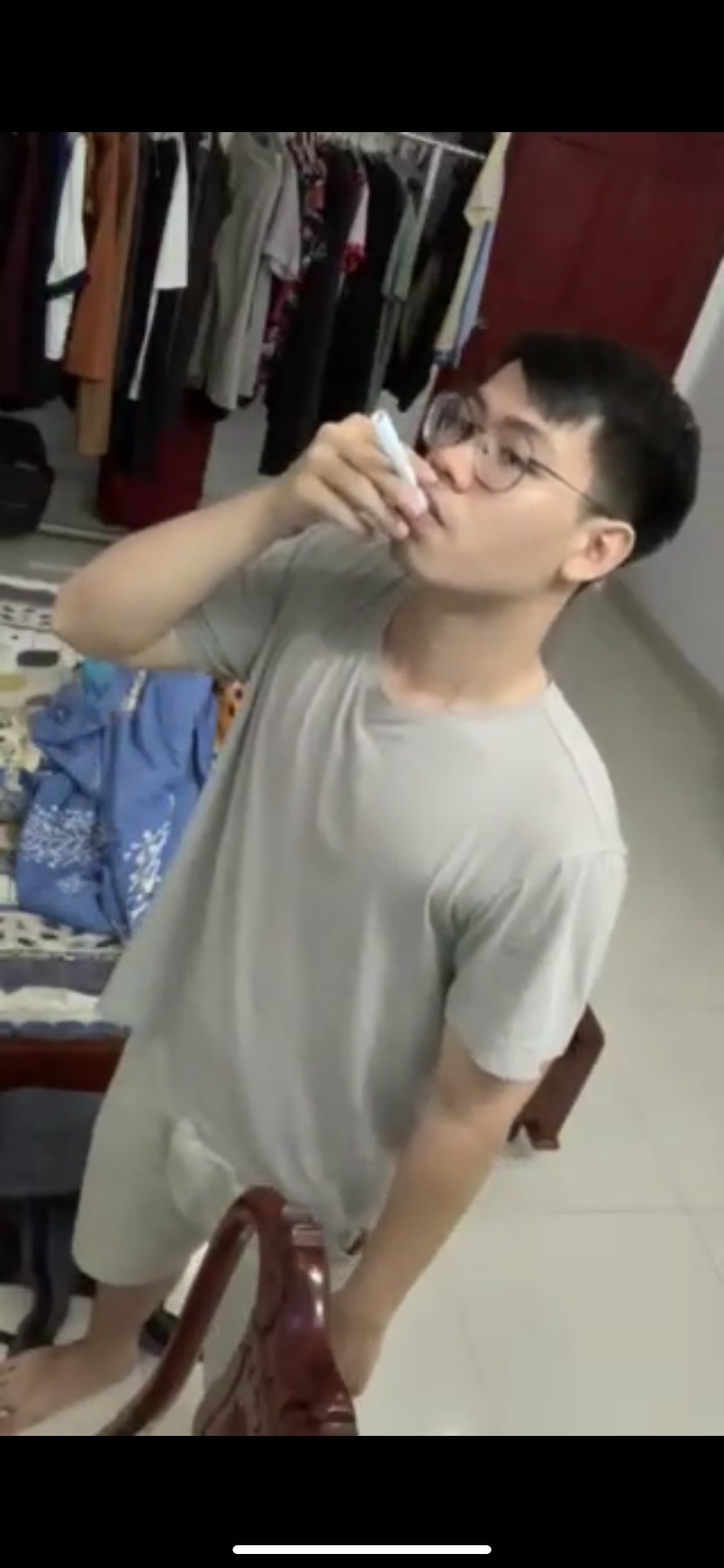cigarette: (365, 393, 438, 508)
person: (54, 310, 687, 1314)
